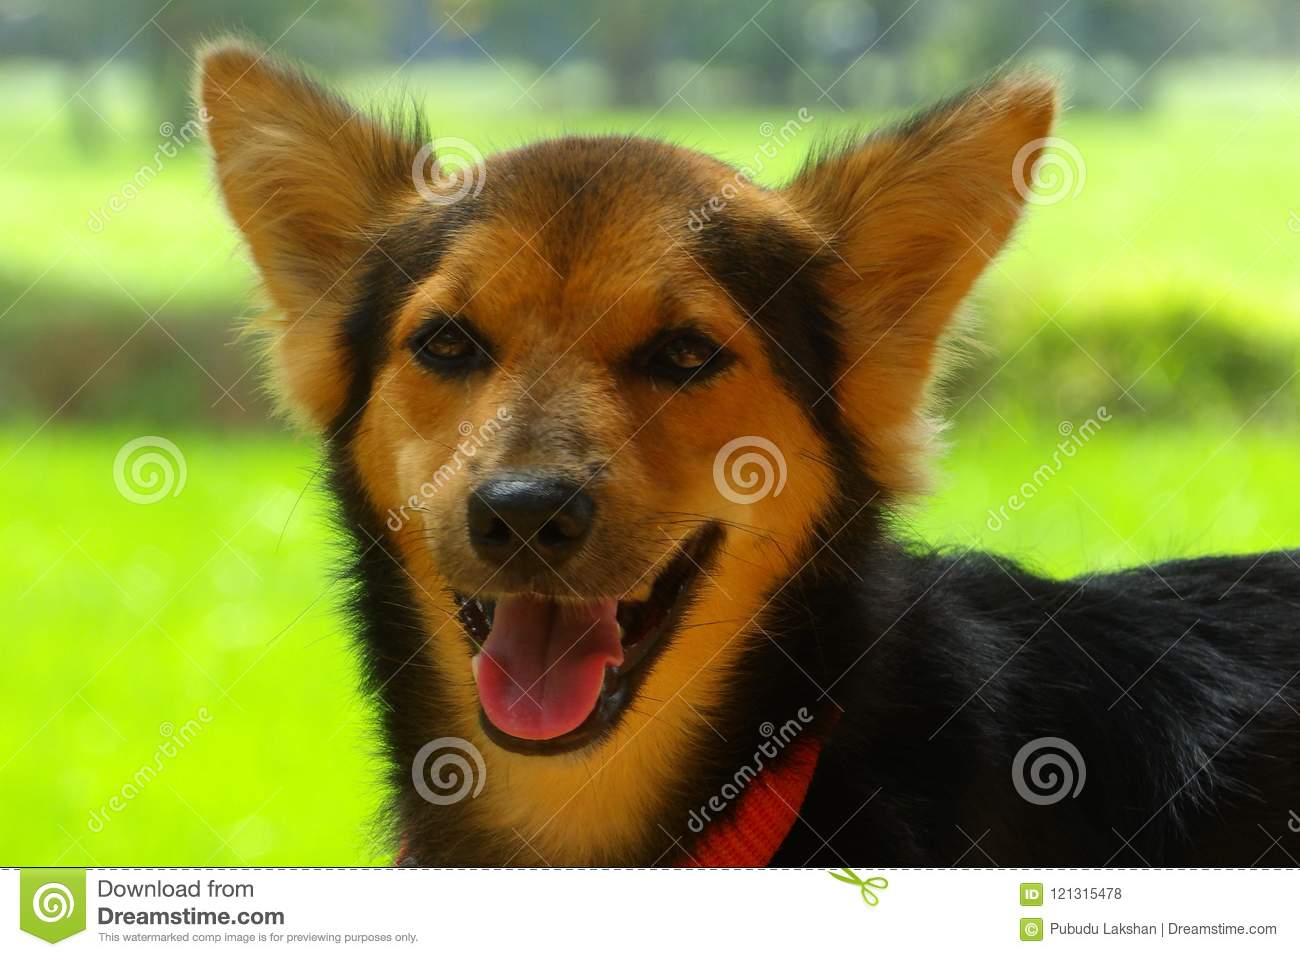Dog: (170, 10, 1090, 821)
